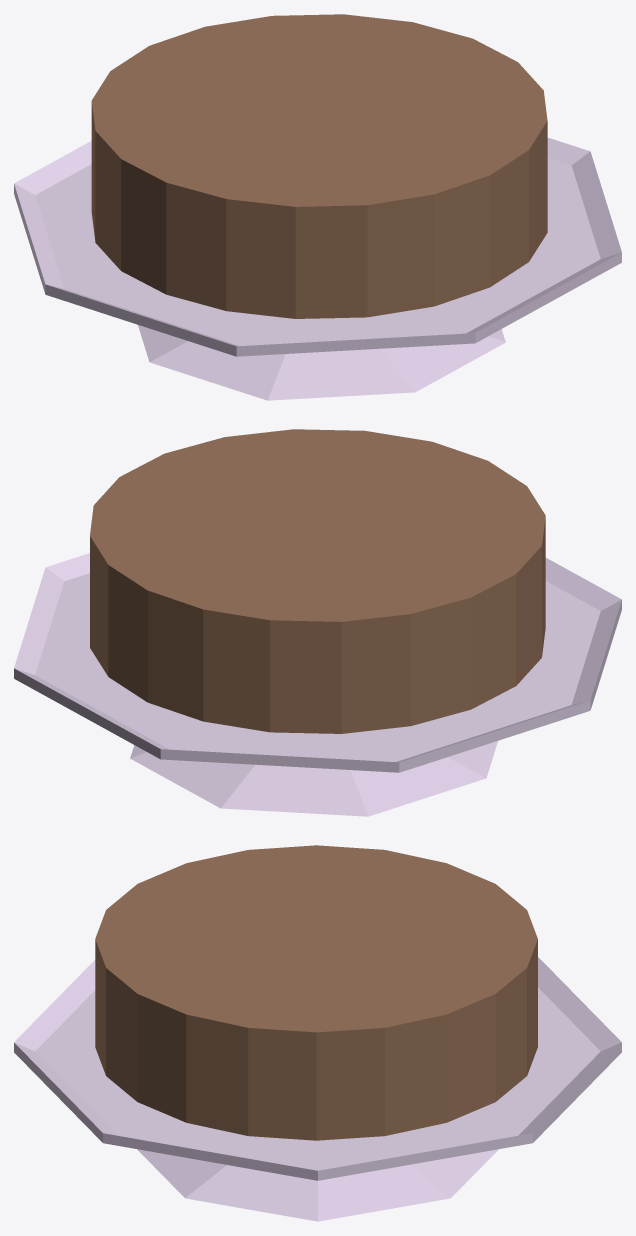
File: Chokoladekage.glb
The picture shows the model from 3 angles, top to bottom: view 1: azimuth 30°, elevation 25°; view 2: azimuth 150°, elevation 25°; view 3: azimuth 270°, elevation 25°; orthographic projection. The views are drawn at different scales.
Parts seen in each view (by area): view 1: Chokoladekage; view 2: Chokoladekage; view 3: Chokoladekage.
Boxes of the visible parts, <box> form: Chokoladekage: <box>14,14,621,400</box>; Chokoladekage: <box>14,429,621,816</box>; Chokoladekage: <box>14,845,621,1221</box>.
Size of the model in its own units: 1.1 by 0.4059 by 1.1.
